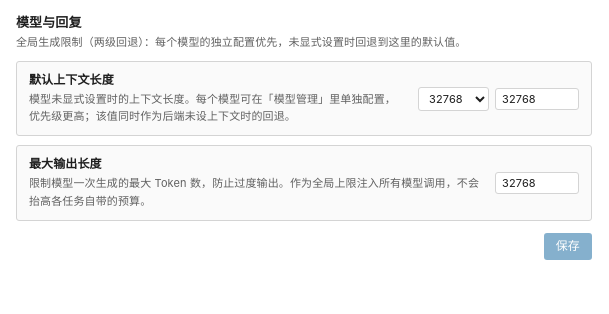
it: GenLimitsPanel › 非法输入被拦截：不发请求 + 错误提示
Type "0" into the 2nd field at [537, 183], box [495,172,579,194]
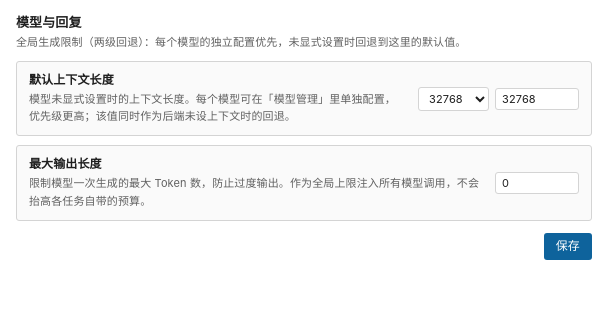
Click the button "保存" at [568, 246], box [544,232,592,260]
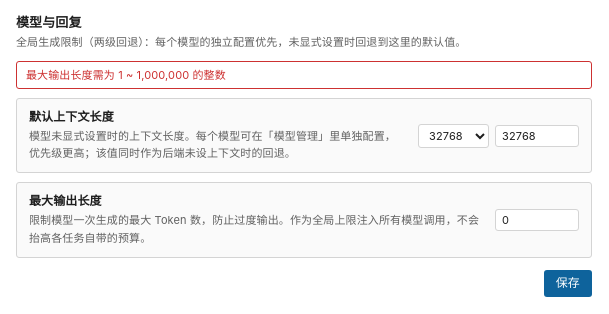
Now the text "最大输出长度需为 1 ~ 1,000,000 的整数" is shown, box [16,61,592,89]
